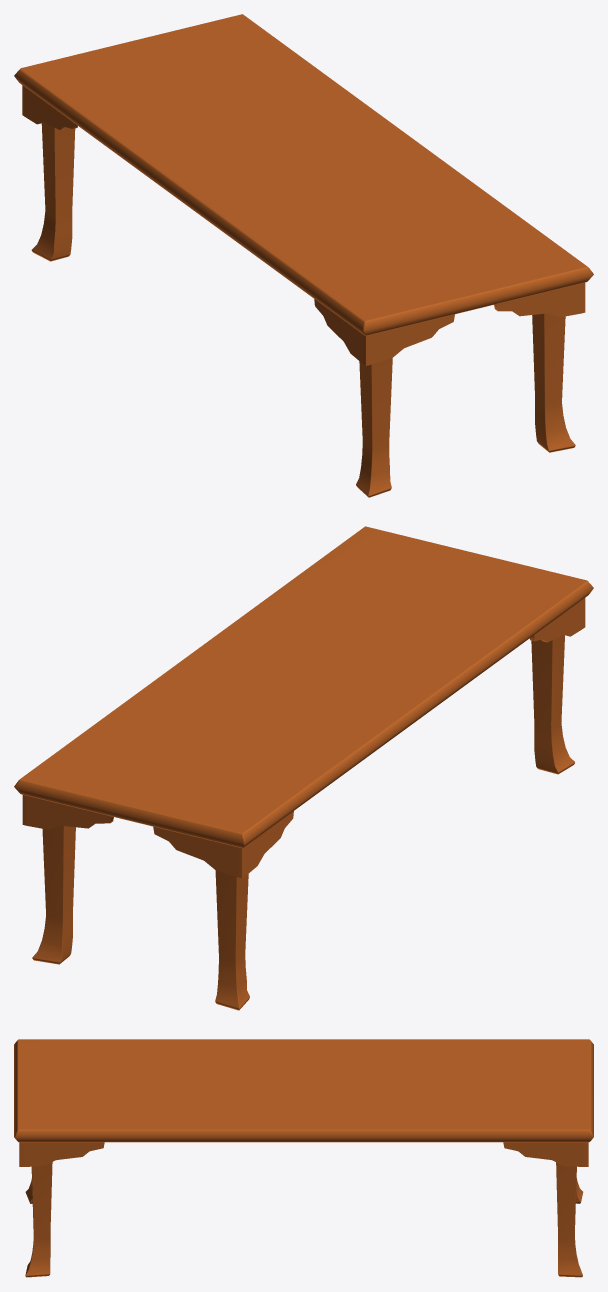
File: desk.fbx
The picture shows the model from 3 angles, top to bottom: view 1: azimuth 30°, elevation 25°; view 2: azimuth 150°, elevation 25°; view 3: azimuth 270°, elevation 25°; orthographic projection. The views are drawn at different scales.
Visible parts, largest first — view 1: ita, asi_front_r, asi_back_l, asi_front_l, kazari_front_l, kazari_front_r, kazari_front_l1; view 2: ita, asi_back_r, asi_front_l, asi_back_l, kazari_front_l1, kazari_front_r1, kazari_front_l; view 3: ita, asi_front_r, asi_back_r, kazari_front_r, kazari_front_r1.
Boxes of the visible parts, x1,y1,x2,y2 form: ita: (14,14,593,335); asi_front_r: (532,313,575,452); asi_back_l: (31,122,75,261); asi_front_l: (356,358,392,497); kazari_front_l: (314,299,454,365); kazari_front_r: (494,282,585,317); kazari_front_l1: (22,85,77,130); ita: (14,526,593,848); asi_back_r: (32,825,75,964); asi_front_l: (531,635,574,774); asi_back_l: (215,870,249,1010); kazari_front_l1: (153,811,293,878); kazari_front_r1: (22,795,113,829); kazari_front_l: (529,598,585,642); ita: (14,1039,593,1142); asi_front_r: (25,1162,52,1277); asi_back_r: (556,1162,582,1277); kazari_front_r: (19,1142,104,1166); kazari_front_r1: (503,1142,588,1166).
Size of the model in its own units: 46.35 by 35 by 121.
